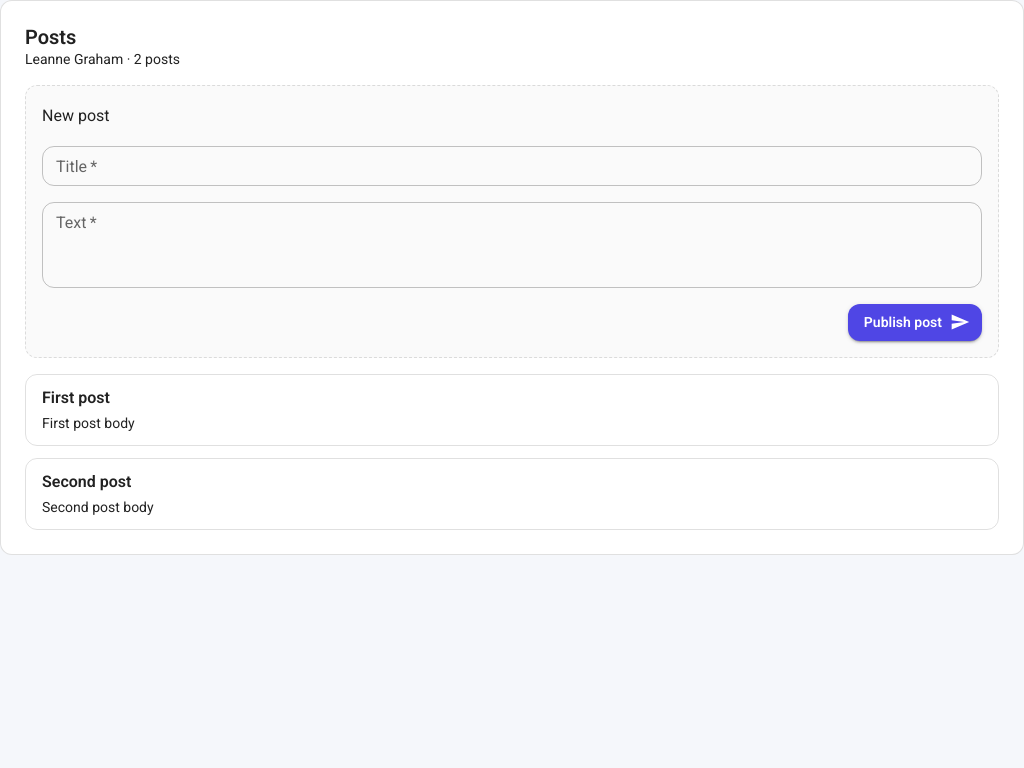
Test case: PostsPanel post creation › shows the error and keeps the values when the post cannot be published
This screenshot has width=1024, height=768.
Type "Lost post" into the field with test id "new-post-title-input". click: (512, 166)
box: [42,146,982,186]
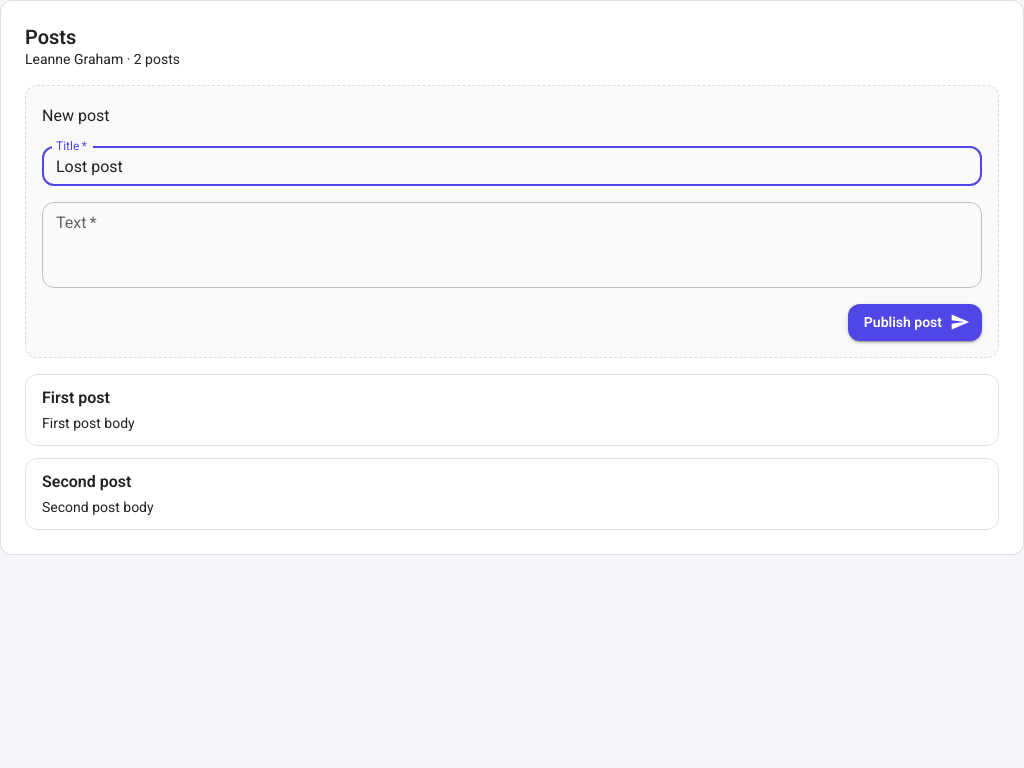
Type "Never saved" into the text box with test id "new-post-body-input". click: (512, 245)
box: [56,210,968,280]
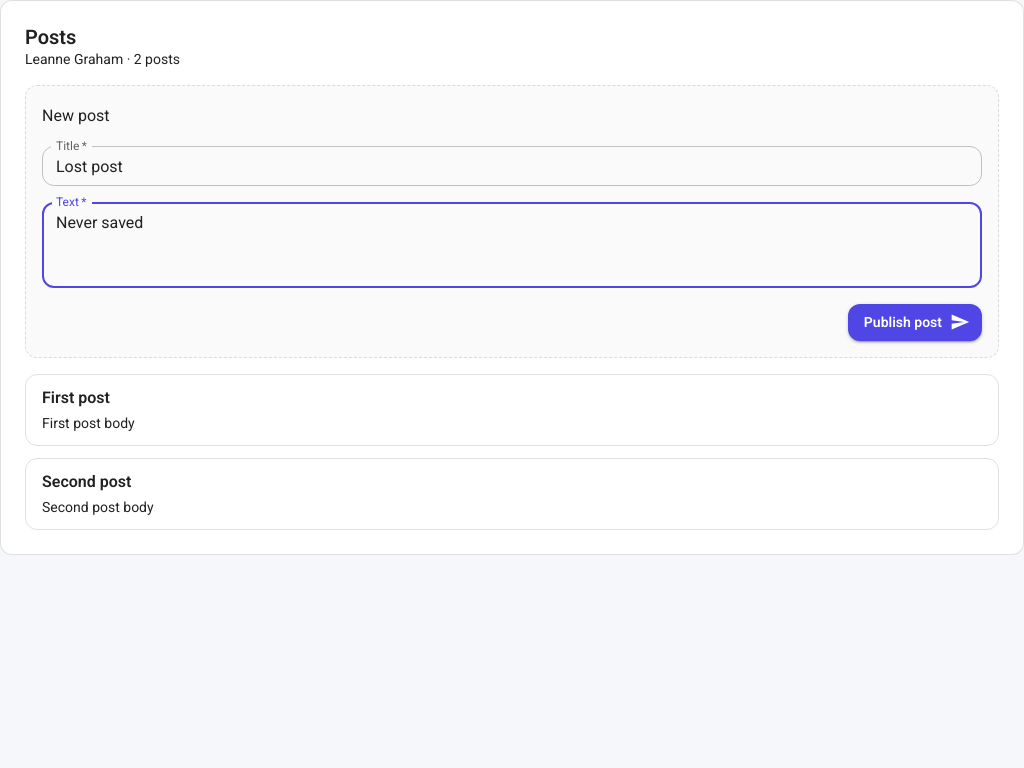
Click the button with test id "new-post-submit". click: (915, 322)
box: [848,304,982,340]
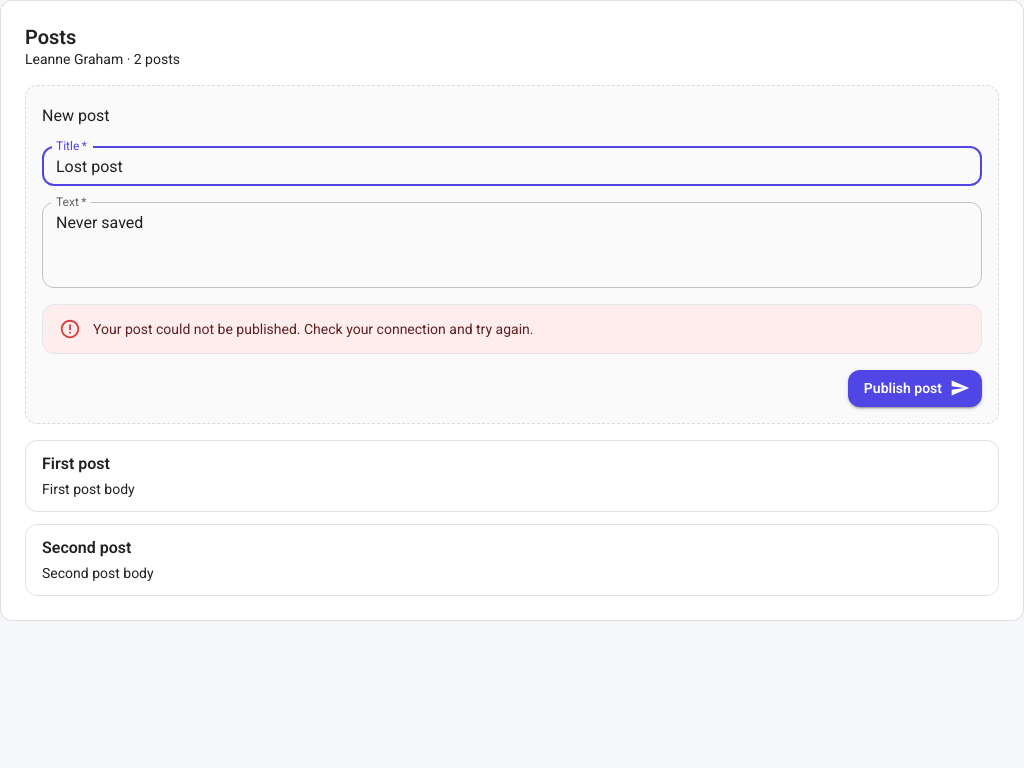
Expected: the number of elements with test id "post-card" is 2, [25,440,999,512]; [25,524,999,596]
Expected: the message "Your post could not be published. Check your connection and try again." is shown, [42,304,982,354]
Type "!" into the field with test id "new-post-title-input". click: (512, 166)
box: [42,146,982,186]
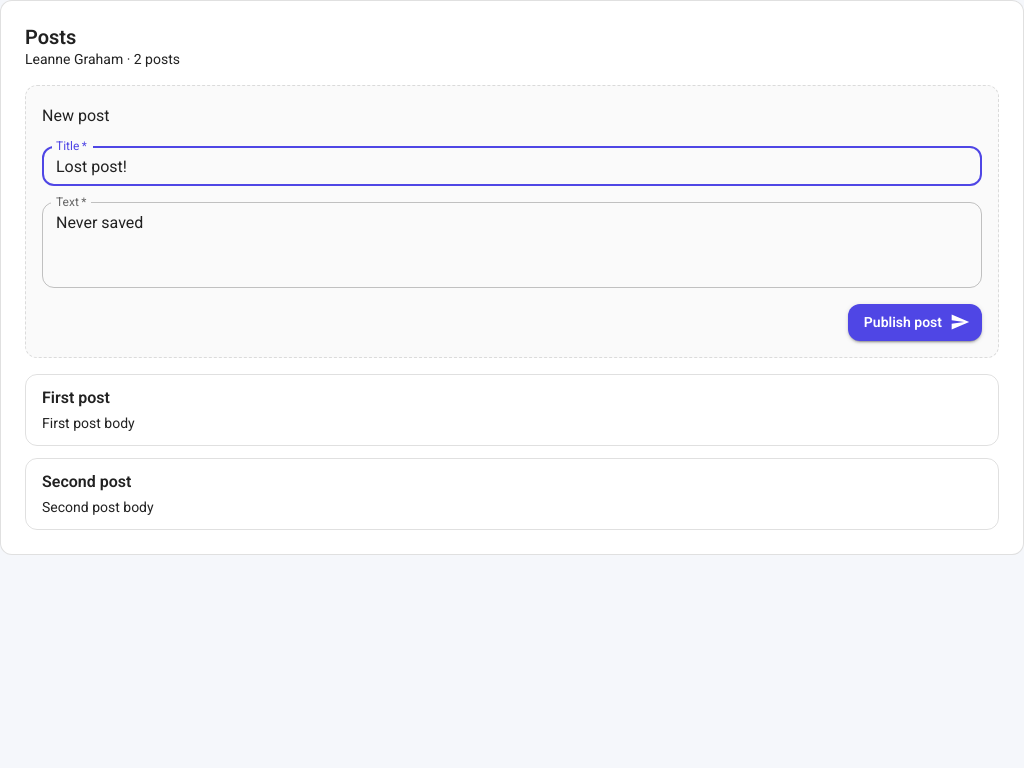
Expected: the message with test id "new-post-error" is gone
